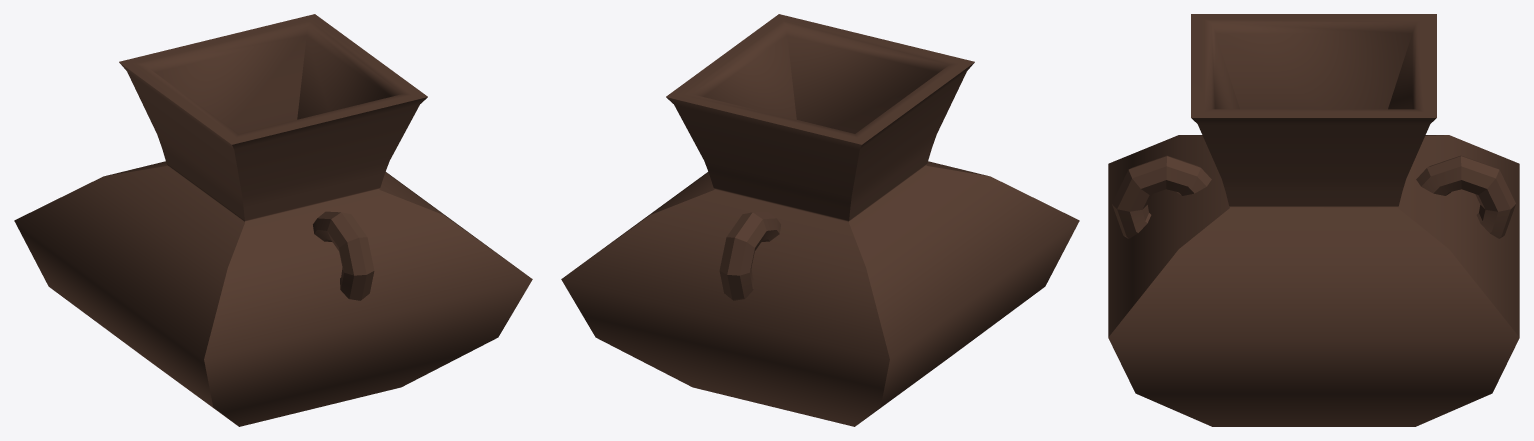
File: Pot1B.glb
3 views of the same model, side by side, from view 1: azimuth 30°, elevation 25°; view 2: azimuth 150°, elevation 25°; view 3: azimuth 270°, elevation 25° (orthographic). The views are drawn at different scales.
Parts seen in each view (by area): view 1: Pot1LowRes; view 2: Pot1LowRes; view 3: Pot1LowRes.
Boxes of the visible parts, x1,y1,x2,y2 form: Pot1LowRes: (14,14,532,426); Pot1LowRes: (561,14,1079,426); Pot1LowRes: (1108,14,1519,426).
Bounding box in the file's own units: 1.3 × 1.13 × 1.3.
